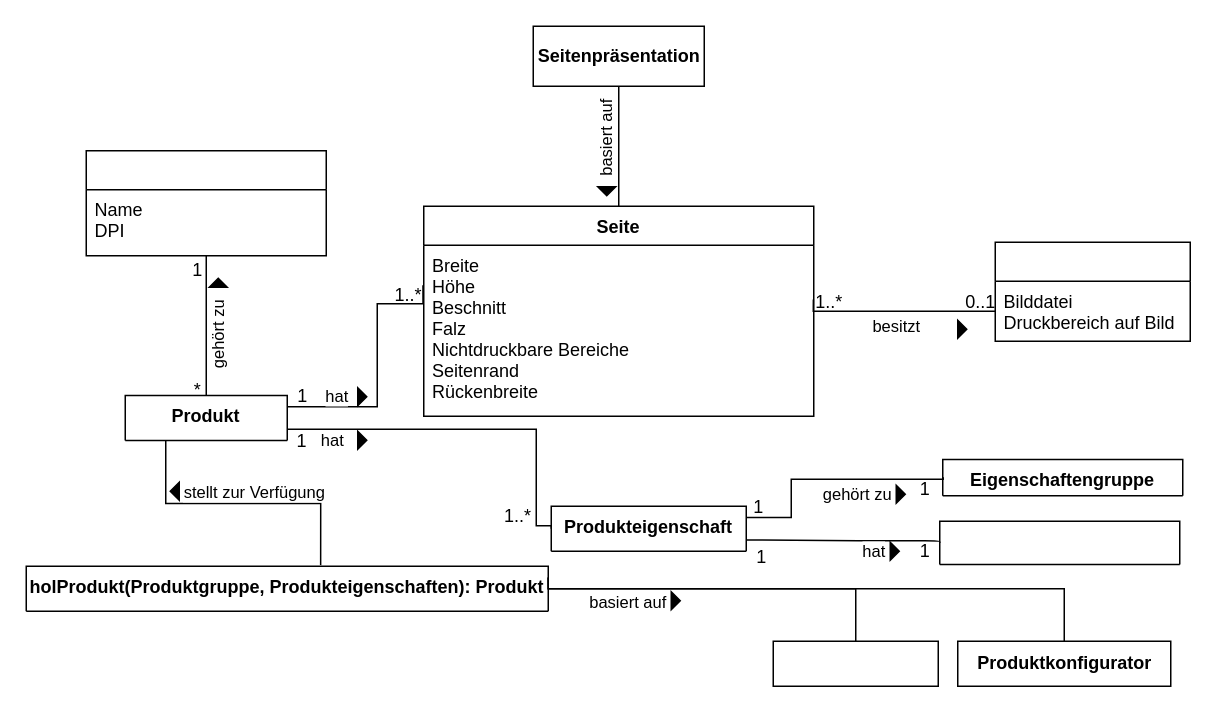
Some shapes in this 1217 by 713 pixel diagram are drawn without their labels. Here are the shapes that lost their labels. From the top down, the box of each, then its label:
(85, 149, 326, 256): Produktgruppe
(994, 241, 1190, 341): Produktbild
(938, 520, 1180, 565): Eigenschaftenwert
(772, 640, 938, 686): Browser-URL
